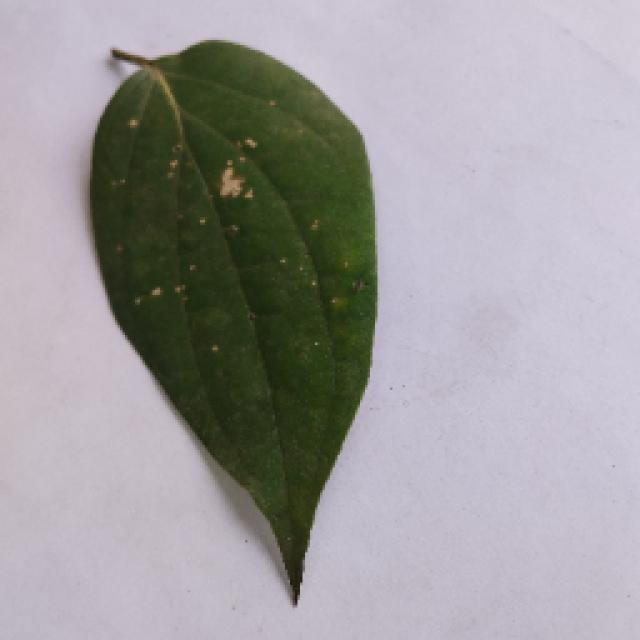pollu-disease: (80, 40, 382, 598)
